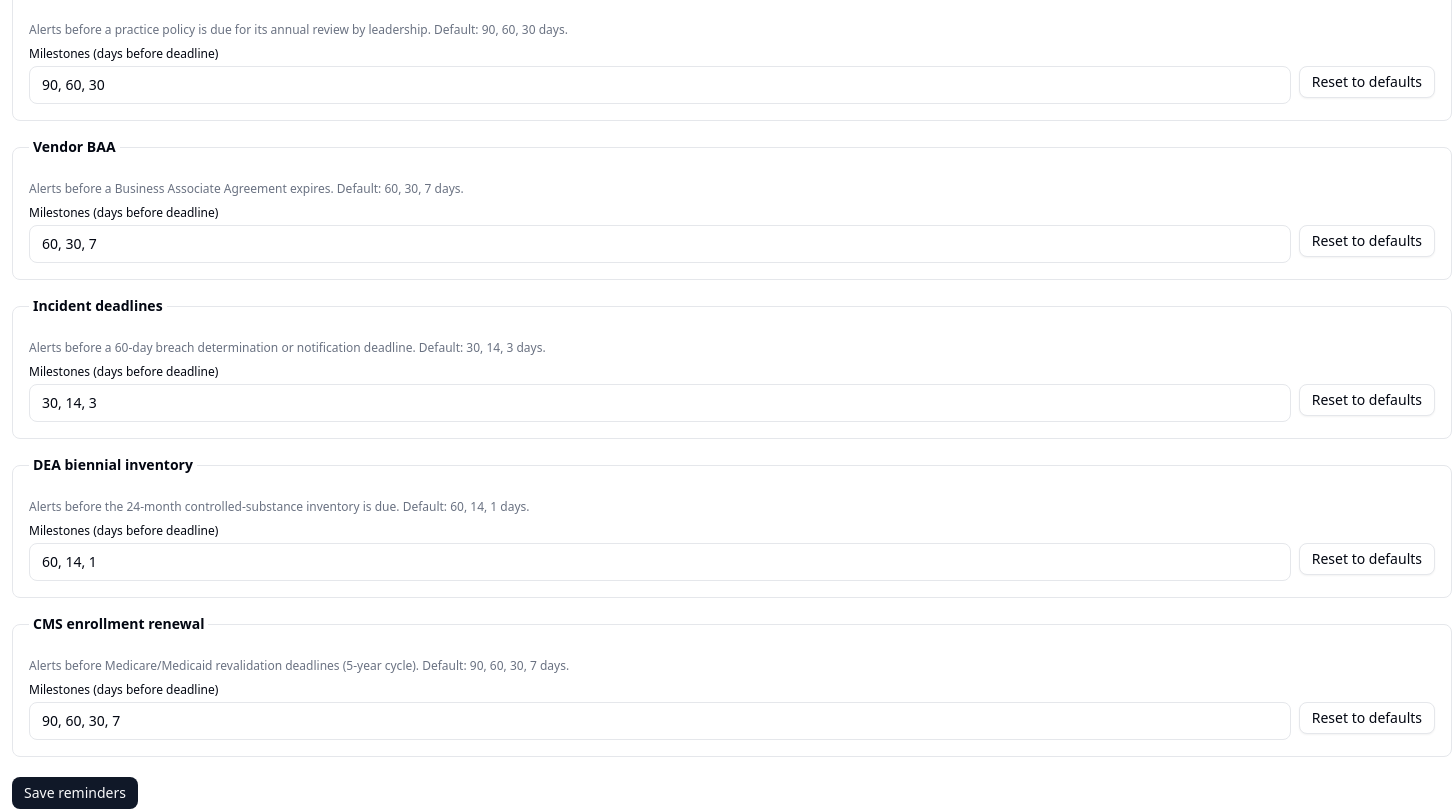
Test: <RemindersForm> › rejects values above the new 1825 boundary (I-2)
The width and height of the screenshot is (1452, 809).
(page scrolled)
Type "1826" into the field labelled "Milestones (days before deadline)" below "CMS enrollment renewal" at (660, 721), box x1=29 y1=702 x2=1291 y2=740
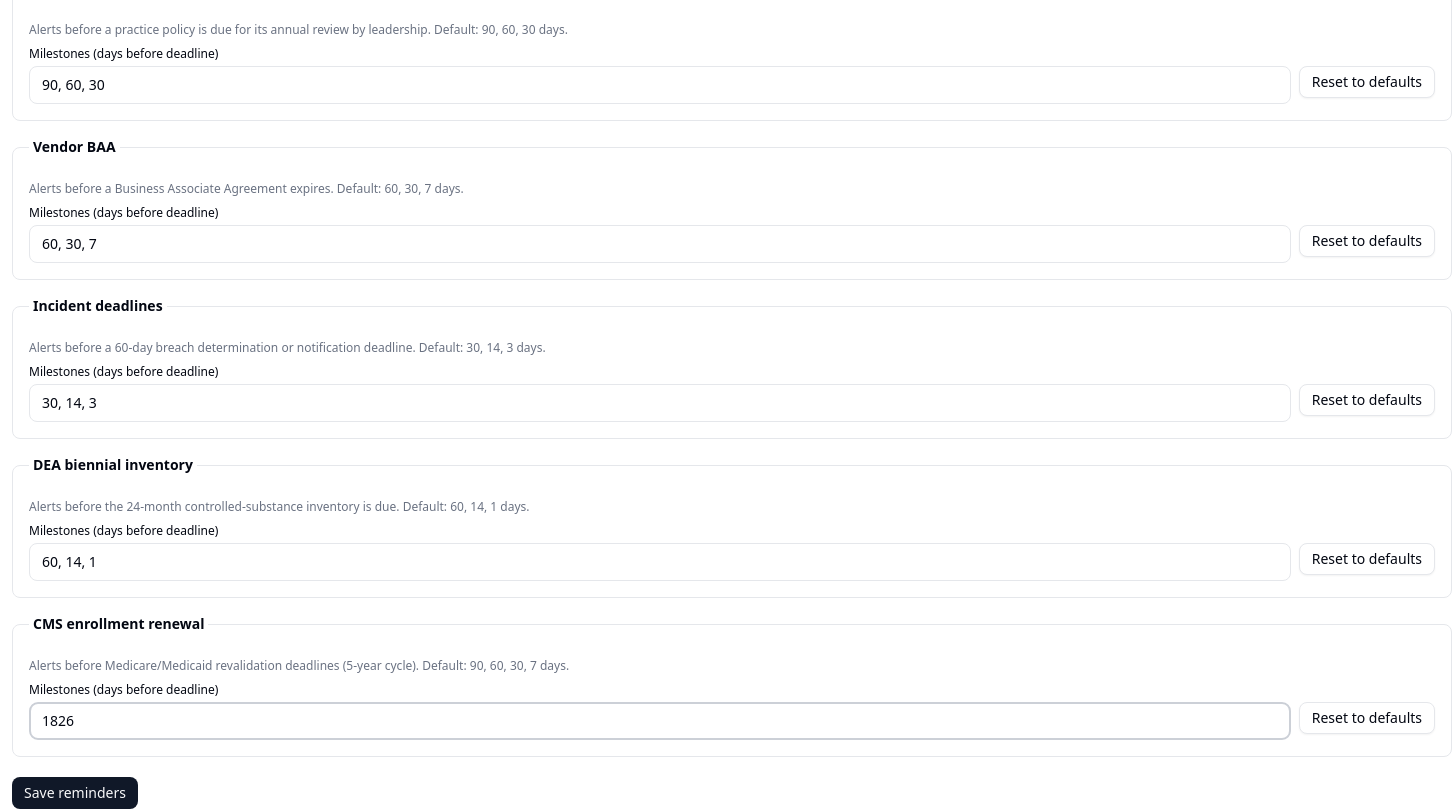
Click the button "Save reminders" at (75, 793), box x1=12 y1=777 x2=138 y2=808
(page scrolled)
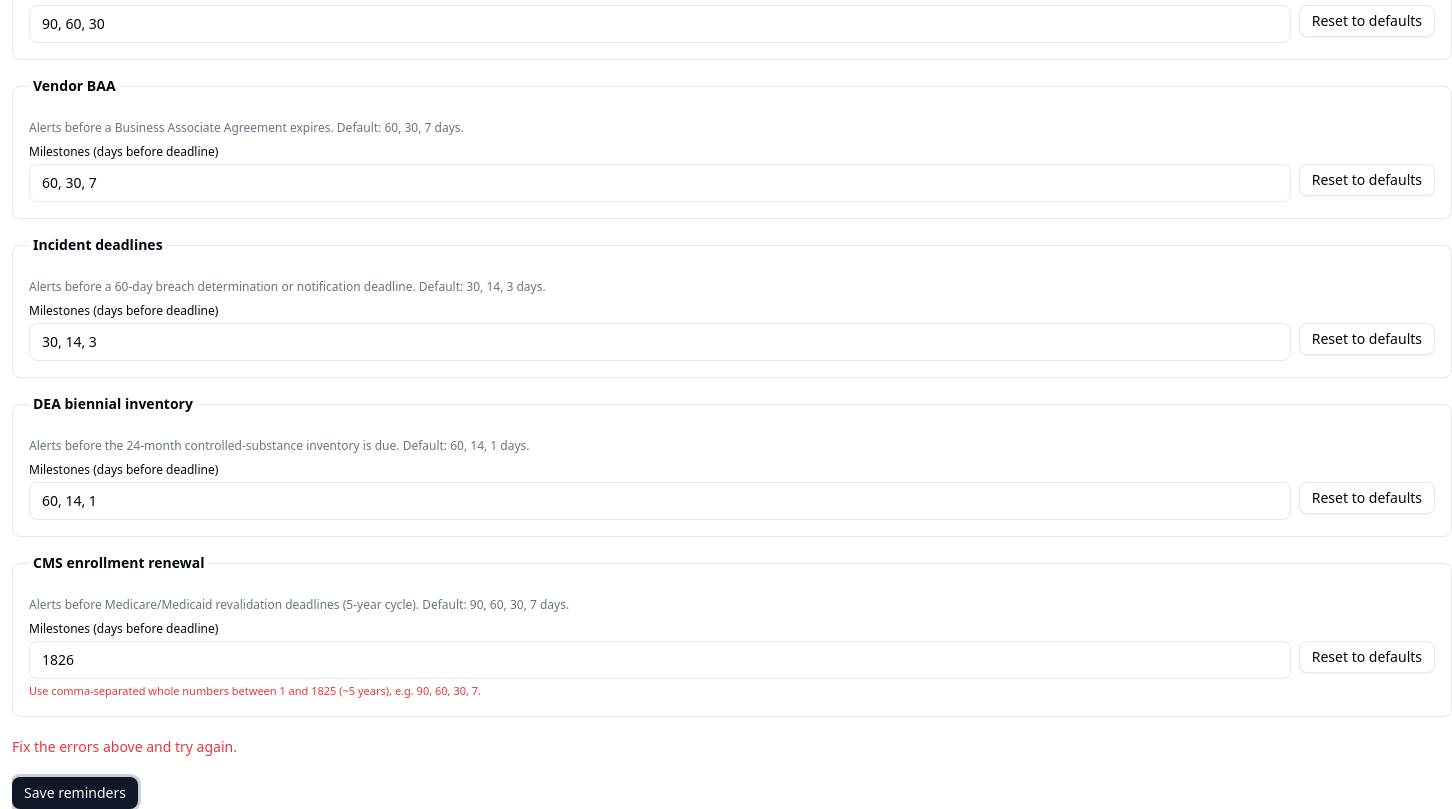
Result: the message shows "Fix the errors" at x1=12 y1=736 x2=237 y2=756
